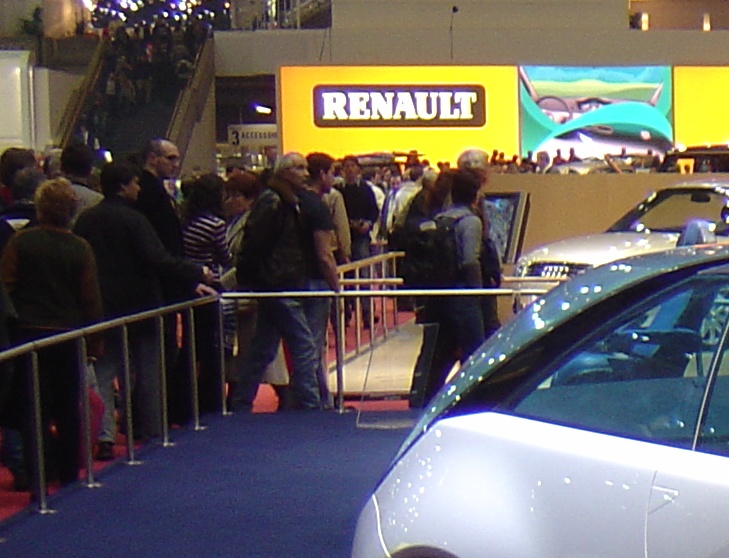person: (238, 153, 322, 412)
